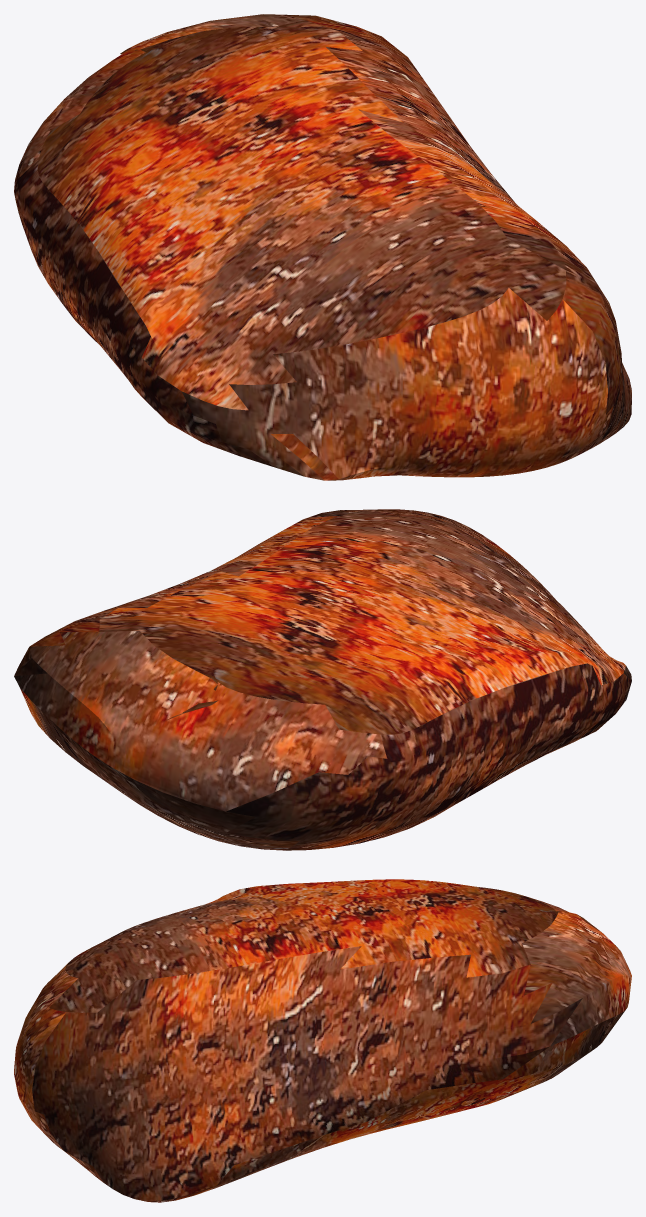
File: DeleteLater.glb
3 renders of one model, top to bottom at view 1: azimuth 30°, elevation 25°; view 2: azimuth 150°, elevation 25°; view 3: azimuth 270°, elevation 25°, orthographic. The views are drawn at different scales.
Visible parts, largest first — view 1: PileOfShitForCar; view 2: PileOfShitForCar; view 3: PileOfShitForCar.
Part boxes in pixels (box(x1,y1,x2,y2)): PileOfShitForCar: box(14, 14, 631, 480); PileOfShitForCar: box(14, 509, 631, 850); PileOfShitForCar: box(14, 879, 631, 1202).
Bounding box in the file's own units: 2.74 × 1.49 × 3.84.
1 material, 1 textured.
